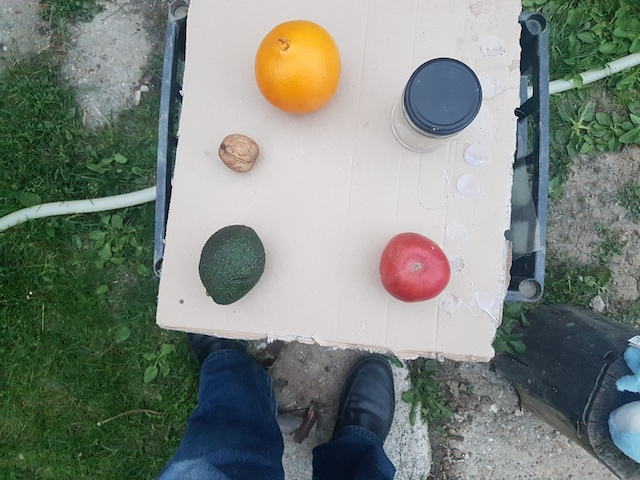apple: (376, 230, 450, 304)
avocado: (198, 224, 266, 306)
nut: (216, 133, 260, 175)
orange: (255, 18, 343, 117)
recipient: (402, 55, 484, 136)
